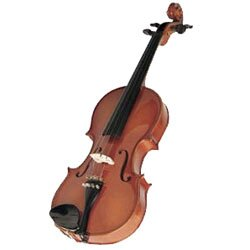Fiddle: (37, 6, 198, 241)
